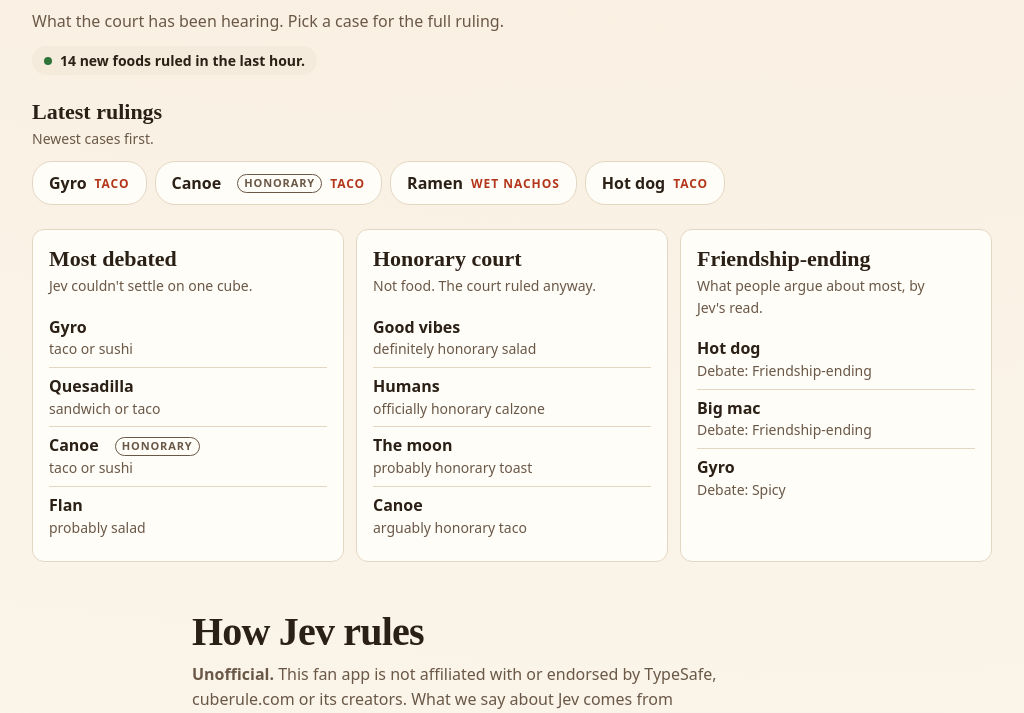
Test: the docket slot › rules on a listed food through the normal flow
This screenshot has width=1024, height=713.
(page scrolled)
Click the link "Gyro taco or sushi" at (90, 336), box [48, 314, 133, 358]
(page scrolled)
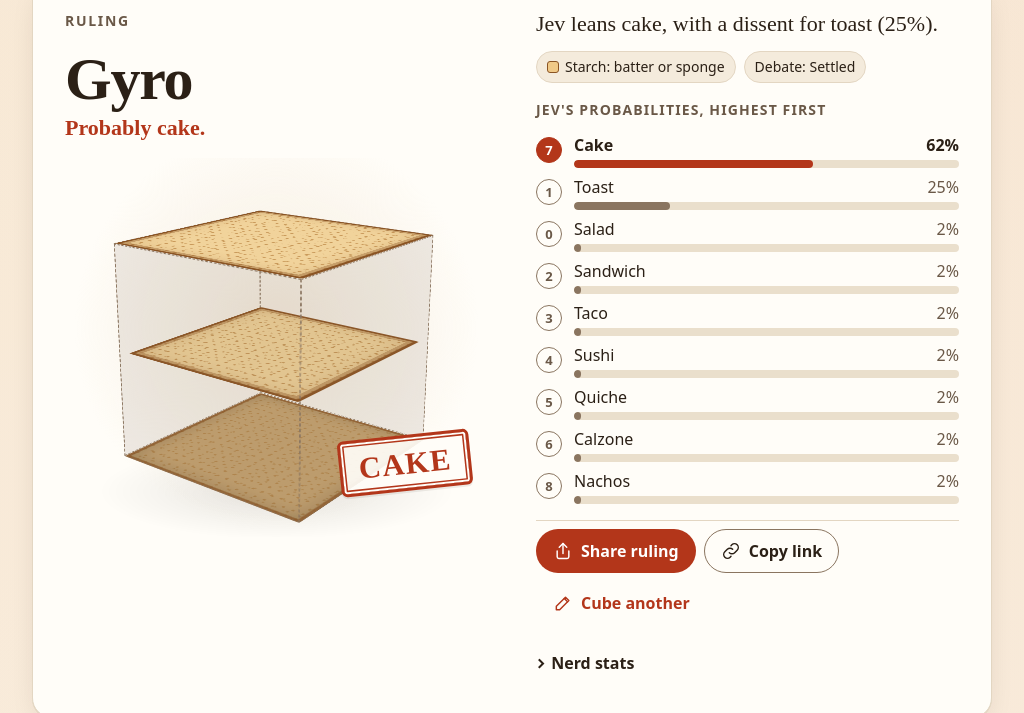
Check: the heading named "Gyro: " is shown, box [64, 46, 205, 140]
